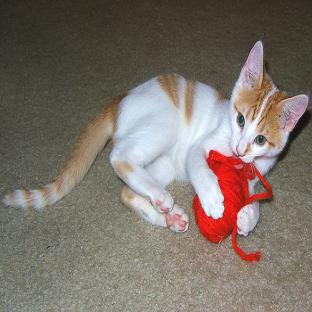Animal: (4, 40, 308, 232), (237, 201, 260, 235), (249, 179, 258, 194)
